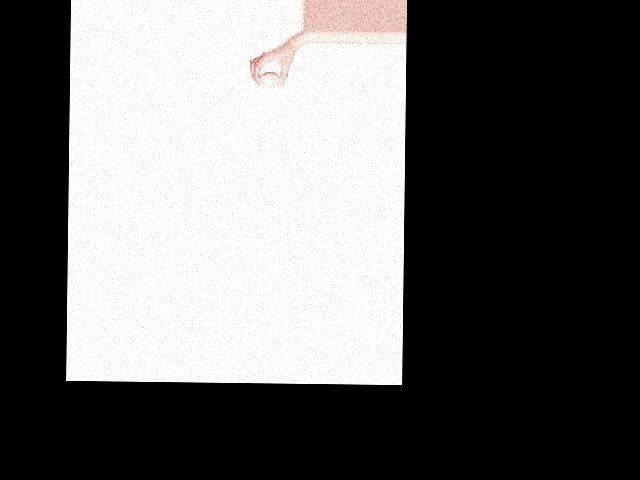egg: (259, 71, 280, 88)
